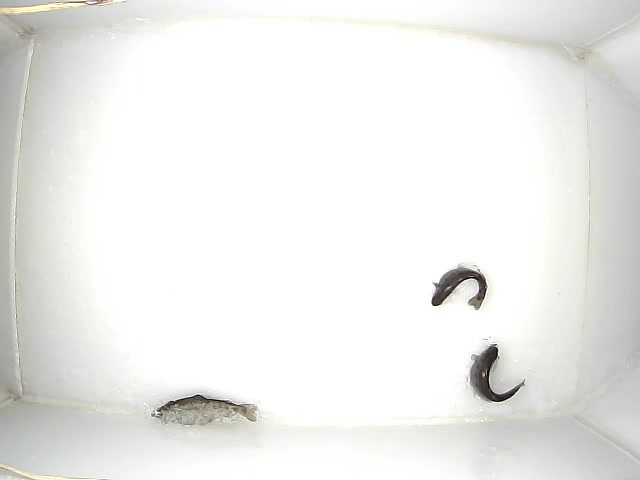fish: (151, 394, 258, 426), (470, 344, 526, 403), (431, 264, 488, 311)
